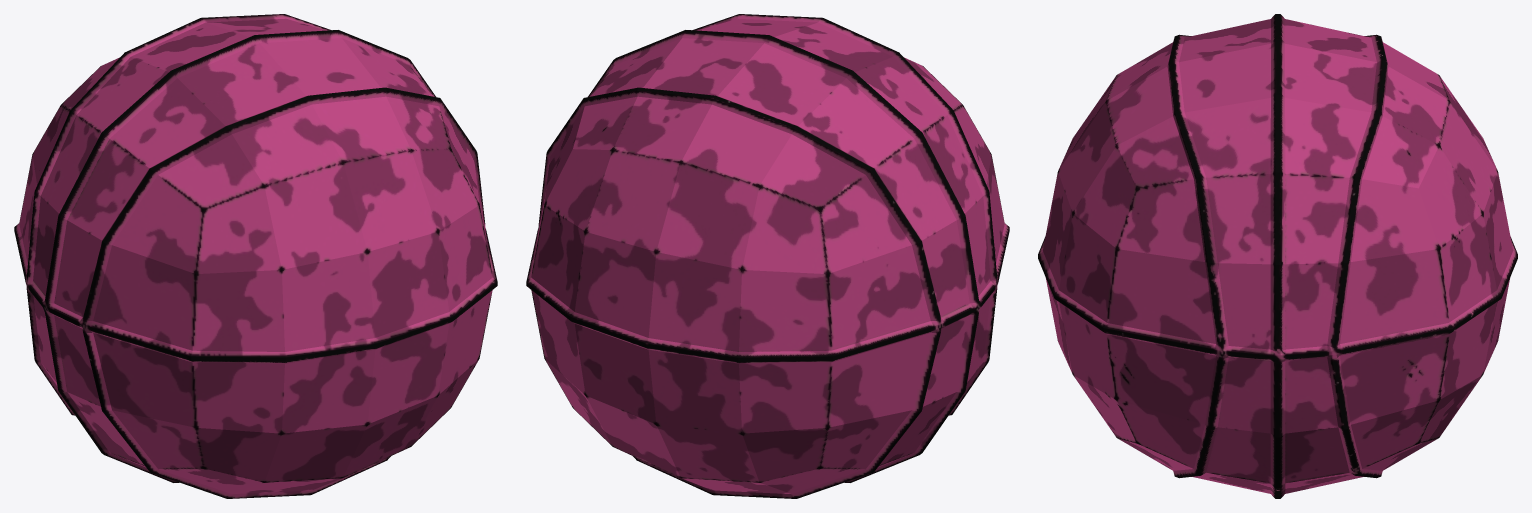
The model's file is Basketballv2.glb.
3 views of the same model, side by side, from view 1: azimuth 30°, elevation 25°; view 2: azimuth 150°, elevation 25°; view 3: azimuth 270°, elevation 25° (orthographic).
Parts seen in each view (by area): view 1: Low_Poly_Bball.001; view 2: Low_Poly_Bball.001; view 3: Low_Poly_Bball.001.
Part boxes in pixels (bbox=[...]): Low_Poly_Bball.001: bbox=[14, 14, 497, 498]; Low_Poly_Bball.001: bbox=[526, 14, 1009, 498]; Low_Poly_Bball.001: bbox=[1038, 14, 1517, 498].
Size of the model in its own units: 0.1361 by 0.1365 by 0.1367.
1 material, 1 textured.
